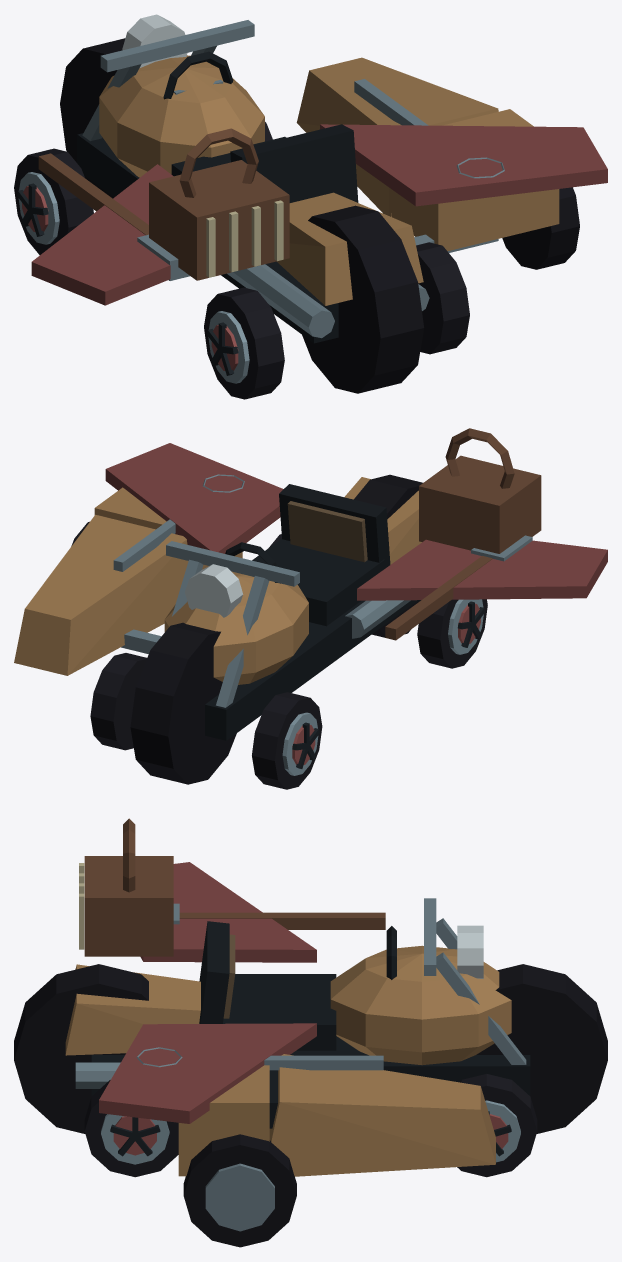
The model's file is kart.glb.
3 renders of one model, top to bottom at view 1: azimuth 30°, elevation 25°; view 2: azimuth 150°, elevation 25°; view 3: azimuth 270°, elevation 25°, orthographic. The views are drawn at different scales.
Visible parts, largest first — view 1: identity-motorbike-motorbike-tank-and-fork, identity-motorbike-motif-wings, identity-motorbike-motorcycle-sidecar, identity-motorbike-motif-basket, identity-motorbike-driver-cockpit, wheel-rear-left, wheel-front-left, wheel-rear-right, identity-motorbike-motif-tools; view 2: identity-motorbike-motorbike-tank-and-fork, identity-motorbike-motif-wings, identity-motorbike-motorcycle-sidecar, identity-motorbike-driver-cockpit, identity-motorbike-motif-basket, wheel-front-left, wheel-rear-left, wheel-front-right, identity-motorbike-motif-tools; view 3: identity-motorbike-motorbike-tank-and-fork, identity-motorbike-motorcycle-sidecar, identity-motorbike-motif-wings, identity-motorbike-motif-basket, identity-motorbike-driver-cockpit, wheel-rear-right, identity-motorbike-motif-tools, wheel-front-right.
Boxes of the visible parts, x1,y1,x2,y2 form: identity-motorbike-motorbike-tank-and-fork: (60, 14, 429, 393); identity-motorbike-motif-wings: (31, 124, 607, 305); identity-motorbike-motorcycle-sidecar: (296, 57, 579, 269); identity-motorbike-motif-basket: (149, 128, 289, 280); identity-motorbike-driver-cockpit: (163, 51, 358, 202); wheel-rear-left: (204, 287, 284, 399); wheel-front-left: (14, 148, 93, 254); wheel-rear-right: (416, 242, 469, 354); identity-motorbike-motif-tools: (38, 79, 504, 280); identity-motorbike-motorbike-tank-and-fork: (130, 474, 422, 784); identity-motorbike-motif-wings: (105, 443, 607, 600); identity-motorbike-motorcycle-sidecar: (14, 487, 242, 675); identity-motorbike-driver-cockpit: (225, 484, 390, 626); identity-motorbike-motif-basket: (419, 428, 541, 553); wheel-front-left: (252, 692, 322, 789); wheel-rear-left: (417, 599, 487, 668); wheel-front-right: (90, 653, 146, 750); identity-motorbike-motif-tools: (113, 474, 532, 640); identity-motorbike-motorbike-tank-and-fork: (14, 898, 607, 1133); identity-motorbike-motorcycle-sidecar: (178, 1054, 495, 1247); identity-motorbike-motif-wings: (99, 862, 316, 1123); identity-motorbike-motif-basket: (79, 818, 173, 956); identity-motorbike-driver-cockpit: (199, 921, 396, 1050); wheel-rear-right: (84, 1080, 178, 1177); identity-motorbike-motif-tools: (136, 903, 385, 1070); wheel-front-right: (457, 1074, 537, 1177).
Bounding box in the file's own units: 2.92 × 1.37 × 2.94.
